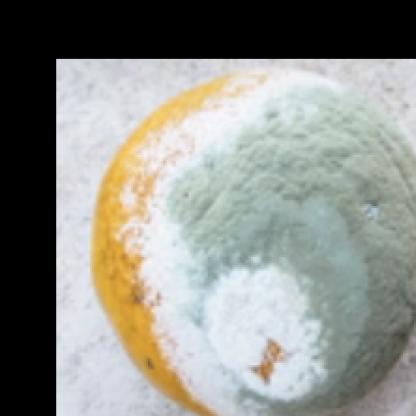rotten: (93, 71, 416, 416)
